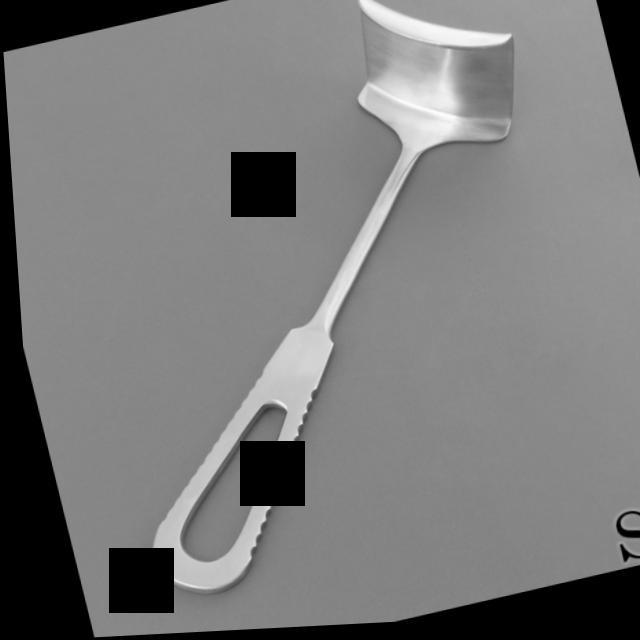Morris Retractor: (13, 0, 626, 621)
